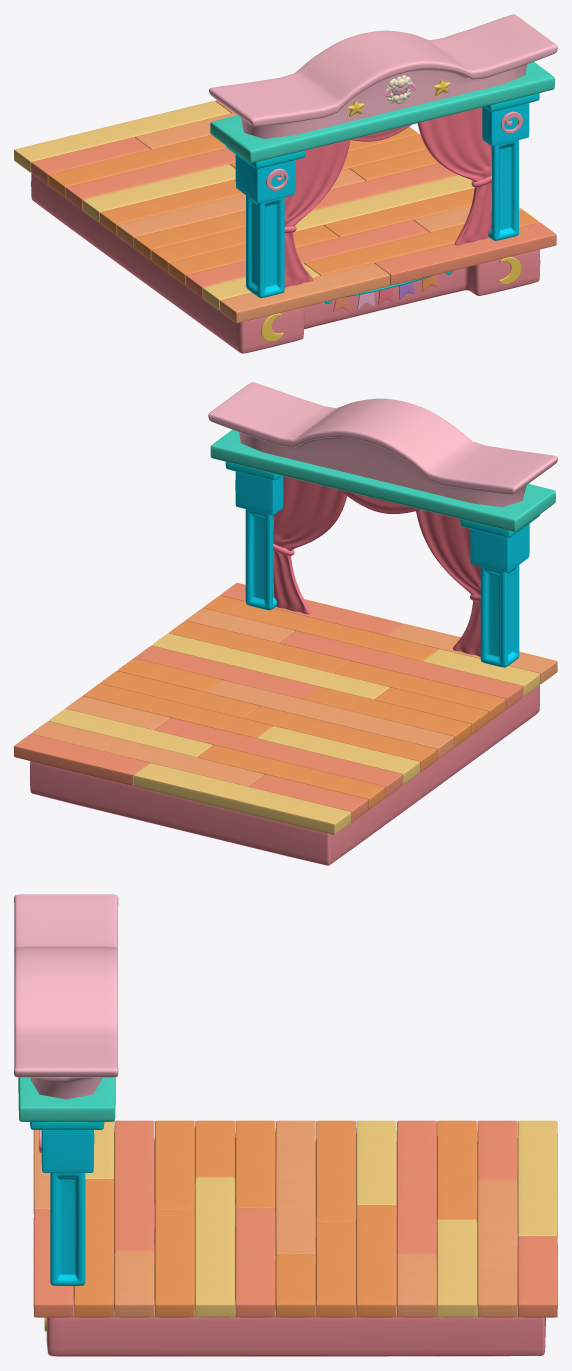
Rendered from theatre.fbx.
3 views of the same model, one above another, from view 1: azimuth 30°, elevation 25°; view 2: azimuth 150°, elevation 25°; view 3: azimuth 270°, elevation 25° (orthographic). The views are drawn at different scales.
Visible parts, largest first — view 1: theatre; view 2: theatre; view 3: theatre.
Part boxes in pixels (x1,y1,x2,y2): theatre: [14, 14, 557, 353]; theatre: [14, 382, 557, 865]; theatre: [14, 894, 557, 1356].
Size of the model in its own units: 662 by 524 by 827.
